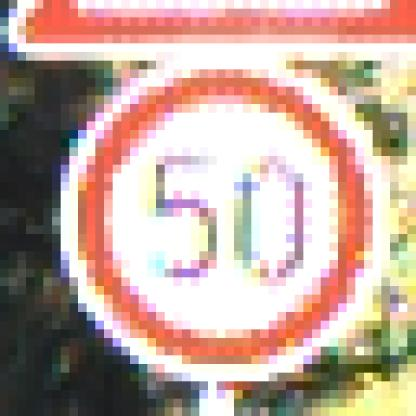Speed Limit 50: (78, 64, 374, 365)
